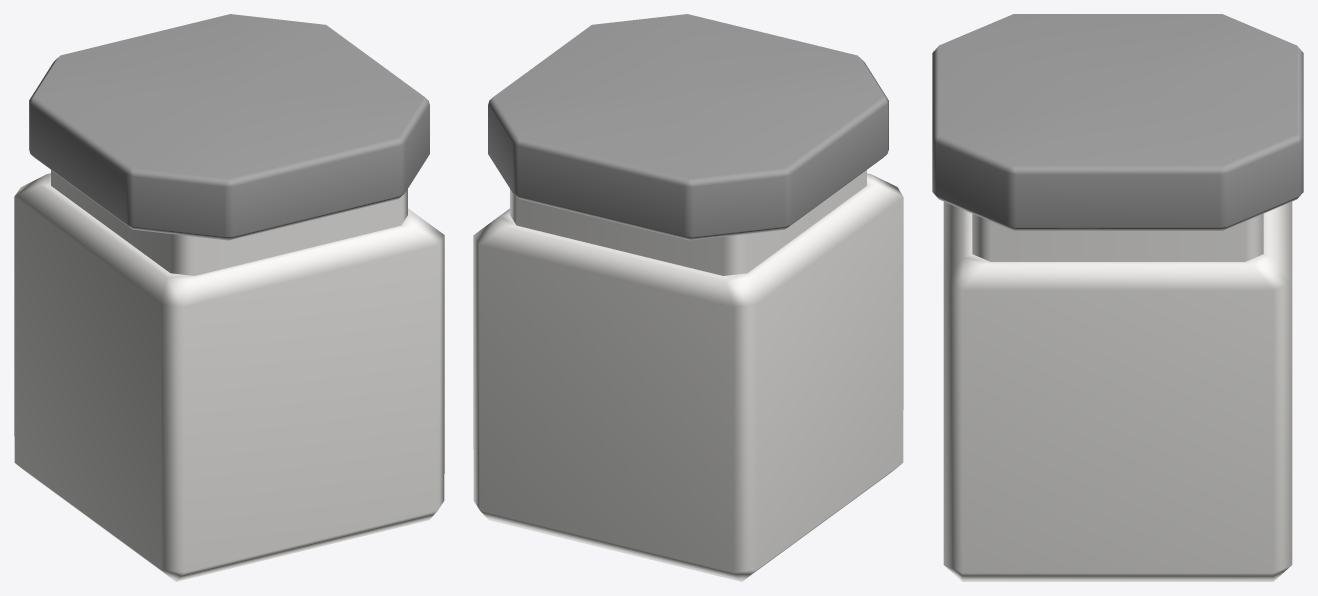
Rendered from Bottle_3.glb.
3 renders of one model, left to right at view 1: azimuth 30°, elevation 25°; view 2: azimuth 150°, elevation 25°; view 3: azimuth 270°, elevation 25°, orthographic. The views are drawn at different scales.
Visible parts, largest first — view 1: Bottle_3; view 2: Bottle_3; view 3: Bottle_3.
Part boxes in pixels (x1,y1,x2,y2): Bottle_3: (14,14,444,581); Bottle_3: (473,14,903,581); Bottle_3: (932,14,1303,581).
Size of the model in its own units: 0.1514 by 0.1918 by 0.1514.
2 materials, 2 textured.
